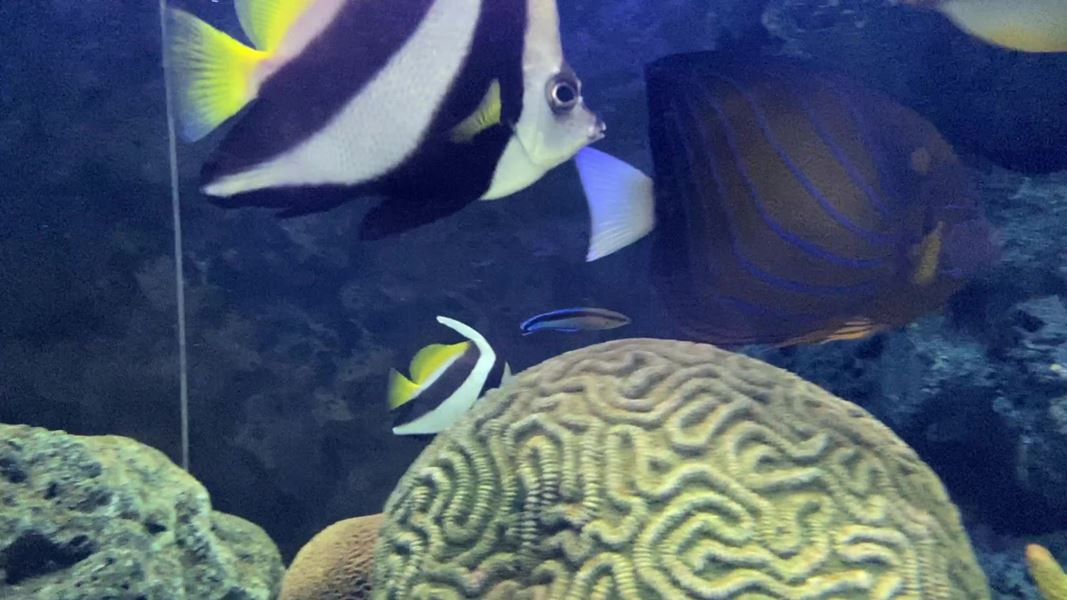Bluesteak cleaner wrasse: (511, 297, 635, 348)
